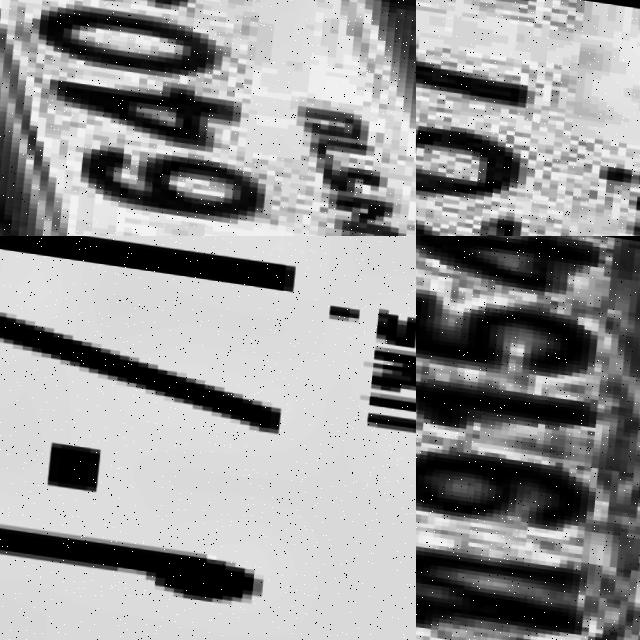license-plate: (0, 236, 416, 640), (0, 0, 416, 236), (416, 236, 640, 640), (416, 0, 640, 236)
